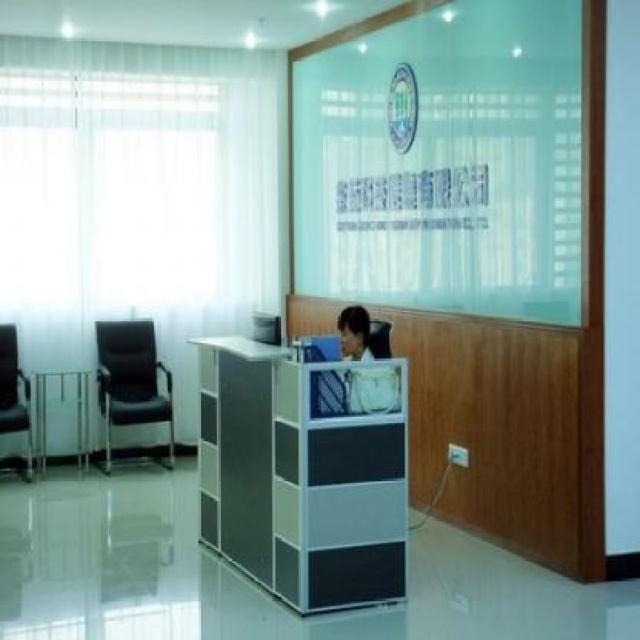frontdesk: (183, 300, 436, 632)
